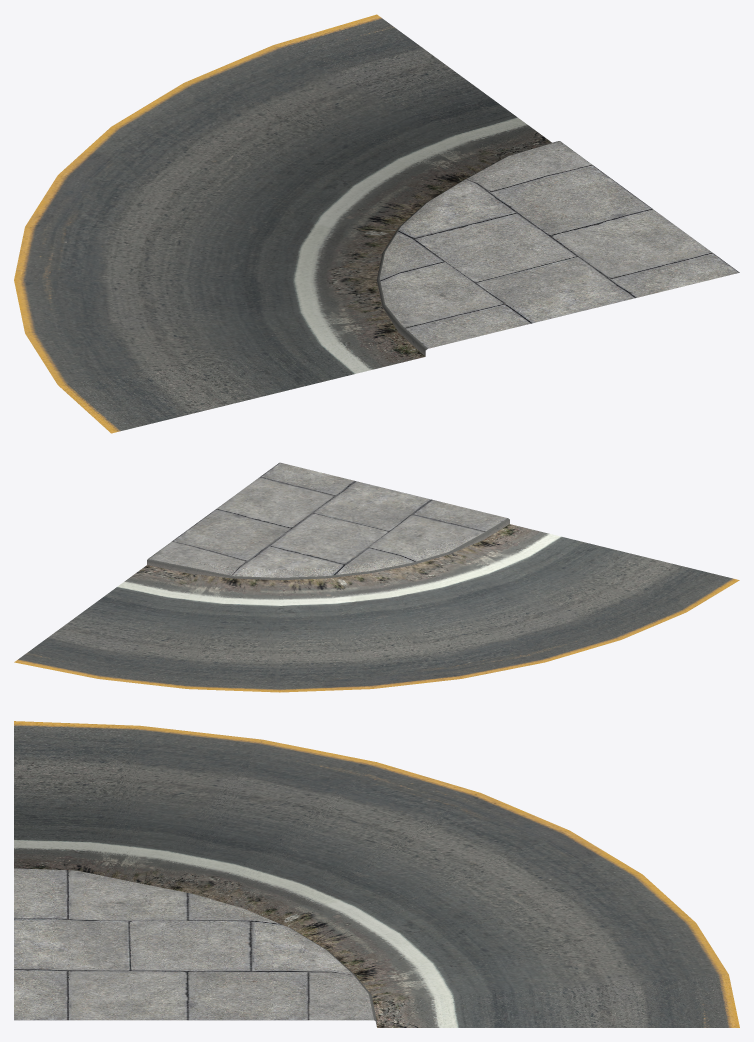
Rendered from CurveShortPedestrian2.FBX.
The picture shows the model from 3 angles, top to bottom: view 1: azimuth 30°, elevation 25°; view 2: azimuth 150°, elevation 25°; view 3: azimuth 270°, elevation 25°; orthographic projection. The views are drawn at different scales.
Visible parts, largest first — view 1: Plane026; view 2: Plane026; view 3: Plane026.
Part boxes in pixels (x1,y1,x2,y2): Plane026: (14, 14, 739, 433); Plane026: (14, 462, 739, 692); Plane026: (14, 721, 739, 1027).
Size of the model in its own units: 615 by 6.93 by 615.
